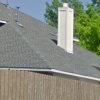Chimney: (54, 2, 77, 57)
